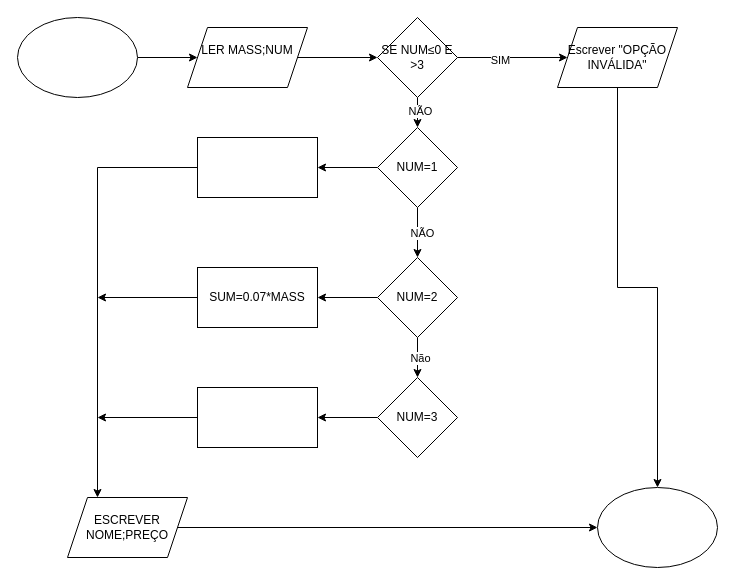
Image size: 735x585. Some labels were removed from this diagram. Here are the shapes that lost their labels. From the top down, the centre of each, then its label:
[77,57]: Início
[257,167]: SUM=0.05*MASS
[257,417]: SUM=0.10*MASS
[657,527]: Fim
